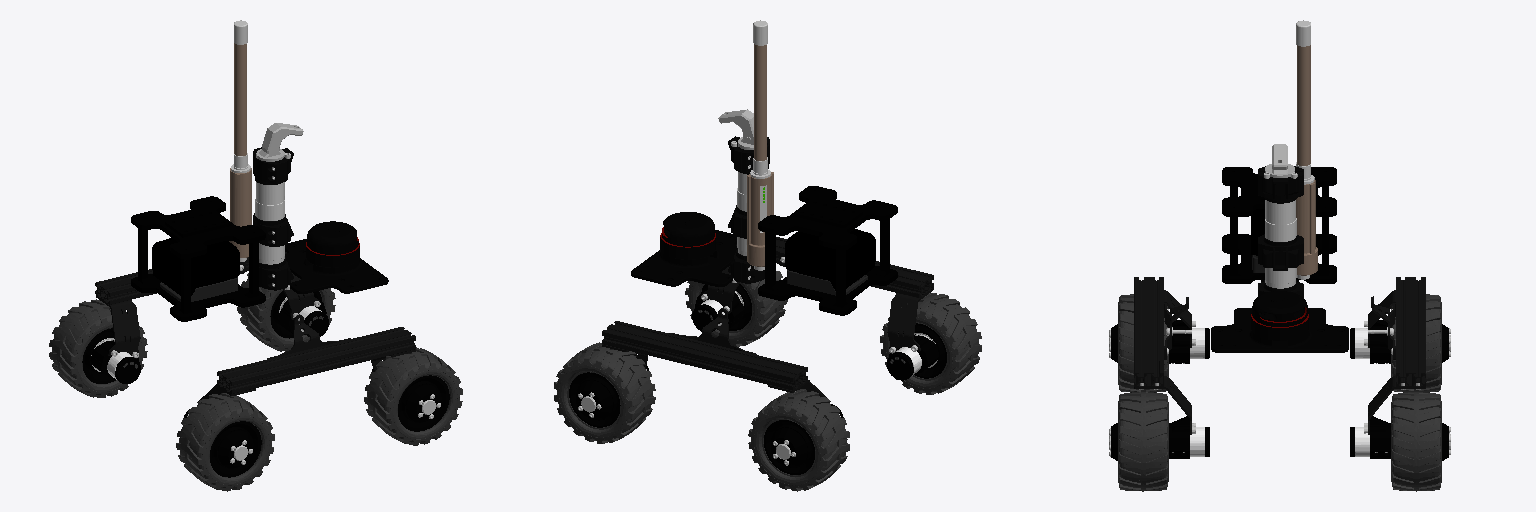
URDF robot description (leo):
<?xml version="1.0" ?>
<!-- =================================================================================== -->
<!-- |    This document was autogenerated by xacro from leo.urdf.xacro                 | -->
<!-- |    EDITING THIS FILE BY HAND IS NOT RECOMMENDED                                 | -->
<!-- =================================================================================== -->
<robot name="leo">
  <!-- LEO GAZEBO -->
  <link name="base_footprint"/>
  <link name="base_link">
    <inertial>
      <mass value="1.584994"/>
      <origin xyz="-0.019662 0.011643 -0.031802"/>
      <inertia ixx="0.01042" ixy="0.001177" ixz="-0.0008871" iyy="0.01045" iyz="0.0002226" izz="0.01817"/>
    </inertial>
    <visual>
      <geometry>
        <mesh filename="package://leorover_description/models/Chassis.dae"/>
      </geometry>
    </visual>
    <collision>
      <geometry>
        <mesh filename="package://leorover_description/models/Chassis_outline.stl"/>
      </geometry>
    </collision>
  </link>
  <link name="rocker_L_link">
    <inertial>
      <mass value="1.387336"/>
      <origin xyz="0 0.01346 -0.06506"/>
      <inertia ixx="0.002956" ixy="-0.000001489324" ixz="-0.000008103407" iyy="0.02924" iyz="0.00007112" izz="0.02832"/>
    </inertial>
    <visual>
      <geometry>
        <mesh filename="package://leorover_description/models/Rocker.dae"/>
      </geometry>
    </visual>
    <collision>
      <geometry>
        <mesh filename="package://leorover_description/models/Rocker_outline.stl"/>
      </geometry>
    </collision>
  </link>
  <link name="rocker_R_link">
    <inertial>
      <mass value="1.387336"/>
      <origin xyz="0 0.01346 -0.06506"/>
      <inertia ixx="0.002956" ixy="-0.000001489324" ixz="-0.000008103407" iyy="0.02924" iyz="0.00007112" izz="0.02832"/>
    </inertial>
    <visual>
      <geometry>
        <mesh filename="package://leorover_description/models/Rocker.dae"/>
      </geometry>
    </visual>
    <collision>
      <geometry>
        <mesh filename="package://leorover_description/models/Rocker_outline.stl"/>
      </geometry>
    </collision>
  </link>
  <link name="wheel_FL_link">
    <inertial>
      <mass value="0.283642"/>
      <origin xyz="0 0.030026 0"/>
      <inertia ixx="0.000391" ixy="0.00000123962" ixz="5.52582e-7" iyy="0.0004716" iyz="-0.000002082042" izz="0.000391"/>
    </inertial>
    <visual>
      <geometry>
        <mesh filename="package://leorover_description/models/WheelA.dae"/>
      </geometry>
    </visual>
    <collision>
      <origin rpy="1.5707963267948966 0 0" xyz="0 0.04485 0"/>
      <geometry>
        <cylinder length="0.07" radius="0.057"/>
      </geometry>
    </collision>
    <collision>
      <origin rpy="1.5707963267948966 0 0" xyz="0 0.04485 0"/>
      <geometry>
        <cylinder length="0.04" radius="0.0625"/>
      </geometry>
    </collision>
    <collision>
      <geometry>
        <mesh filename="package://leorover_description/models/Wheel_outline.stl"/>
      </geometry>
    </collision>
  </link>
  <link name="wheel_RL_link">
    <inertial>
      <mass value="0.283642"/>
      <origin xyz="0 0.030026 0"/>
      <inertia ixx="0.000391" ixy="0.00000123962" ixz="5.52582e-7" iyy="0.0004716" iyz="-0.000002082042" izz="0.000391"/>
    </inertial>
    <visual>
      <geometry>
        <mesh filename="package://leorover_description/models/WheelA.dae"/>
      </geometry>
    </visual>
    <collision>
      <origin rpy="1.5707963267948966 0 0" xyz="0 0.04485 0"/>
      <geometry>
        <cylinder length="0.07" radius="0.057"/>
      </geometry>
    </collision>
    <collision>
      <origin rpy="1.5707963267948966 0 0" xyz="0 0.04485 0"/>
      <geometry>
        <cylinder length="0.04" radius="0.0625"/>
      </geometry>
    </collision>
    <collision>
      <geometry>
        <mesh filename="package://leorover_description/models/Wheel_outline.stl"/>
      </geometry>
    </collision>
  </link>
  <link name="wheel_FR_link">
    <inertial>
      <mass value="0.283642"/>
      <origin xyz="0 0.030026 0"/>
      <inertia ixx="0.000391" ixy="0.00000123962" ixz="5.52582e-7" iyy="0.0004716" iyz="-0.000002082042" izz="0.000391"/>
    </inertial>
    <visual>
      <geometry>
        <mesh filename="package://leorover_description/models/WheelB.dae"/>
      </geometry>
    </visual>
    <collision>
      <origin rpy="1.5707963267948966 0 0" xyz="0 0.04485 0"/>
      <geometry>
        <cylinder length="0.07" radius="0.057"/>
      </geometry>
    </collision>
    <collision>
      <origin rpy="1.5707963267948966 0 0" xyz="0 0.04485 0"/>
      <geometry>
        <cylinder length="0.04" radius="0.0625"/>
      </geometry>
    </collision>
    <collision>
      <geometry>
        <mesh filename="package://leorover_description/models/Wheel_outline.stl"/>
      </geometry>
    </collision>
  </link>
  <link name="wheel_RR_link">
    <inertial>
      <mass value="0.283642"/>
      <origin xyz="0 0.030026 0"/>
      <inertia ixx="0.000391" ixy="0.00000123962" ixz="5.52582e-7" iyy="0.0004716" iyz="-0.000002082042" izz="0.000391"/>
    </inertial>
    <visual>
      <geometry>
        <mesh filename="package://leorover_description/models/WheelB.dae"/>
      </geometry>
    </visual>
    <collision>
      <origin rpy="1.5707963267948966 0 0" xyz="0 0.04485 0"/>
      <geometry>
        <cylinder length="0.07" radius="0.057"/>
      </geometry>
    </collision>
    <collision>
      <origin rpy="1.5707963267948966 0 0" xyz="0 0.04485 0"/>
      <geometry>
        <cylinder length="0.04" radius="0.0625"/>
      </geometry>
    </collision>
    <collision>
      <geometry>
        <mesh filename="package://leorover_description/models/Wheel_outline.stl"/>
      </geometry>
    </collision>
  </link>
  <link name="antenna_link">
    <inertial>
      <mass value="0.001237"/>
      <origin xyz="0 0 0.028828"/>
      <inertia ixx="2.5529e-7" ixy="0.0" ixz="0.0" iyy="2.5529e-7" iyz="0.0" izz="1.354e-8"/>
    </inertial>
    <visual>
      <geometry>
        <mesh filename="package://leorover_description/models/Antenna.dae"/>
      </geometry>
    </visual>
    <collision>
      <origin xyz="0 0 0.028"/>
      <geometry>
        <cylinder length="0.056" radius="0.0055"/>
      </geometry>
    </collision>
  </link>
  <link name="camera_frame"/>
  <link name="camera_optical_frame"/>
  <link name="imu_frame"/>
  <!-- JOINTS -->
  <joint name="base_joint" type="fixed">
    <origin rpy="0 0 0" xyz="0 0 0.19783"/>
    <parent link="base_footprint"/>
    <child link="base_link"/>
  </joint>
  <joint name="rocker_L_joint" type="fixed">
    <origin rpy="0 0 3.141592653589793" xyz="0.00263 0.14167 -0.04731"/>
    <parent link="base_link"/>
    <child link="rocker_L_link"/>
    <axis xyz="0 1 0"/>
    <limit effort="100.0" lower="-0.24" upper="0.24" velocity="100.0"/>
    <dynamics damping="0.1" friction="1.0"/>
  </joint>
  <joint name="rocker_R_joint" type="fixed">
    <origin rpy="0 0 0" xyz="0.00263 -0.14167 -0.04731"/>
    <parent link="base_link"/>
    <child link="rocker_R_link"/>
    <axis xyz="0 1 0"/>
    <limit effort="100.0" lower="-0.24" upper="0.24" velocity="100.0"/>
    <dynamics damping="0.1" friction="1.0"/>
    <mimic joint="rocker_L_joint"/>
  </joint>
  <joint name="wheel_FL_joint" type="continuous">
    <origin rpy="0 0 0" xyz="-0.15256 -0.08214 -0.08802"/>
    <parent link="rocker_L_link"/>
    <child link="wheel_FL_link"/>
    <axis xyz="0 -1 0"/>
    <limit effort="2.0" velocity="6.0"/>
    <dynamics damping="0.1" friction="0.3125"/>
  </joint>
  <joint name="wheel_RL_joint" type="continuous">
    <origin rpy="0 0 0" xyz="0.15256 -0.08214 -0.08802"/>
    <parent link="rocker_L_link"/>
    <child link="wheel_RL_link"/>
    <axis xyz="0 -1 0"/>
    <limit effort="2.0" velocity="6.0"/>
    <dynamics damping="0.1" friction="0.3125"/>
  </joint>
  <joint name="wheel_FR_joint" type="continuous">
    <origin rpy="0 0 0" xyz="0.15256 -0.08214 -0.08802"/>
    <parent link="rocker_R_link"/>
    <child link="wheel_FR_link"/>
    <axis xyz="0 1 0"/>
    <limit effort="2.0" velocity="6.0"/>
    <dynamics damping="0.1" friction="0.3125"/>
  </joint>
  <joint name="wheel_RR_joint" type="continuous">
    <origin rpy="0 0 0" xyz="-0.15256 -0.08214 -0.08802"/>
    <parent link="rocker_R_link"/>
    <child link="wheel_RR_link"/>
    <axis xyz="0 1 0"/>
    <limit effort="2.0" velocity="6.0"/>
    <dynamics damping="0.1" friction="0.3125"/>
  </joint>
  <joint name="antenna_joint" type="fixed">
    <origin rpy="0 0 0" xyz="-0.0052 0.056 -0.0065"/>
    <parent link="base_link"/>
    <child link="antenna_link"/>
  </joint>
  <joint name="camera_joint" type="fixed">
    <origin rpy="0 0.2094 0" xyz="0.0971 0 -0.0427"/>
    <parent link="base_link"/>
    <child link="camera_frame"/>
  </joint>
  <joint name="camera_optical_joint" type="fixed">
    <origin rpy="-1.5707963267948966 0.0 -1.5707963267948966" xyz="0 0 0"/>
    <parent link="camera_frame"/>
    <child link="camera_optical_frame"/>
  </joint>
  <joint name="imu_joint" type="fixed">
    <origin rpy="0 0 0" xyz="0.0628 -0.0314 -0.0393"/>
    <parent link="base_link"/>
    <child link="imu_frame"/>
  </joint>
  <!-- 2-segment camera mast with mount for camera -->
  <link name="mast_link">
    <visual>
      <origin rpy="0 0 -1.5707963267948966" xyz="0.006 0.0 0.0"/>
      <geometry>
        <mesh filename="package://leorover_description/models/model_extensions/long_camera_mast.dae"/>
      </geometry>
    </visual>
    <inertial>
      <origin xyz="0.0 0.0 0.1"/>
      <mass value="0.25"/>
      <inertia ixx="0.002956" ixy="-0.000001489324" ixz="-0.000008103407" iyy="0.02924" iyz="0.00007112" izz="0.02832"/>
    </inertial>
    <collision>
      <origin xyz="0.0 0.0 0.1"/>
      <geometry>
        <cylinder length="0.2" radius="0.025"/>
      </geometry>
    </collision>
  </link>
  <joint name="mast_joint" type="fixed">
    <parent link="base_link"/>
    <child link="mast_link"/>
    <origin rpy="0 0 0" xyz="0.024999999999999994 0.0 -0.001"/>
  </joint>
  <link name="camera_mount_link">
    <visual>
      <origin rpy="0 0 1.5707963267948966" xyz="-0.001 0.0 0.0"/>
      <geometry>
        <mesh filename="package://leorover_description/models/model_extensions/camera_mount_fixed_angle_20_degrees_v1.dae"/>
      </geometry>
    </visual>
    <inertial>
      <mass value="0.05"/>
      <inertia ixx="0.01042" ixy="0.001177" ixz="-0.0008871" iyy="0.01045" iyz="0.0002226" izz="0.01817"/>
    </inertial>
  </link>
  <joint name="camera_mount_joint" type="fixed">
    <parent link="mast_link"/>
    <child link="camera_mount_link"/>
    <origin rpy="0 0 0" xyz="0.0025 0.0 0.17"/>
  </joint>
  <link name="mikrotik_antenna_link">
    <inertial>
      <mass value="0.5"/>
      <inertia ixx="0.002956" ixy="-0.000001489324" ixz="-0.000008103407" iyy="0.02924" iyz="0.00007112" izz="0.02832"/>
    </inertial>
    <visual>
      <origin rpy="0 0 1.5707963267948966" xyz="0 0 0"/>
      <geometry>
        <mesh filename="package://leorover_description/models/model_extensions/mikrotik_antenna.dae"/>
      </geometry>
    </visual>
    <collision>
      <origin xyz="0 0 0.08"/>
      <geometry>
        <cylinder length="0.16" radius="0.025"/>
      </geometry>
    </collision>
    <collision>
      <origin xyz="0.0 0.0 0.23"/>
      <geometry>
        <cylinder length="0.3" radius="0.01"/>
      </geometry>
    </collision>
  </link>
  <joint name="mikrotik_antenna_joint" type="fixed">
    <origin rpy="0 0 -0.7853981633974483" xyz="-0.03 0.03 0.03"/>
    <parent link="mast_link"/>
    <child link="mikrotik_antenna_link"/>
  </joint>
  <link name="realsense_link"/>
  <material name="aluminum">
    <color rgba="0.5 0.5 0.5 1"/>
  </material>
  <material name="plastic">
    <color rgba="0.1 0.1 0.1 1"/>
  </material>
  <!-- camera body, with origin at bottom screw mount -->
  <joint name="realsense_camera_joint" type="fixed">
    <origin rpy="0 0 0" xyz="-0.01 0.0 -0.002"/>
    <parent link="realsense_link"/>
    <child link="realsense_camera_bottom_screw_frame"/>
  </joint>
  <link name="realsense_camera_bottom_screw_frame"/>
  <joint name="realsense_camera_link_joint" type="fixed">
    <origin rpy="0 0 0" xyz="0.025195 0.0 0.0145"/>
    <parent link="realsense_camera_bottom_screw_frame"/>
    <child link="realsense_camera_link"/>
  </joint>
  <link name="realsense_camera_link">
    <visual>
      <!-- the mesh origin is at front plate in between the two infrared camera axes -->
      <!-- <origin xyz="${d455_zero_depth_to_glass + d455_glass_to_front} ${-d455_cam_depth_py} 0" rpy="${M_PI/2} 0 ${M_PI/2}"/> -->
      <origin rpy="1.5707963267948966 0 1.5707963267948966" xyz="0 -0.0 0"/>
      <geometry>
        <!-- <box size="${d455_cam_width} ${d455_cam_height} ${d455_cam_depth}"/> -->
        <mesh filename="package://leorover_description/models/model_extensions/d455.stl" scale="0.001 0.001 0.001"/>
        <material name="camera_gray">
          <color rgba="0.2 0.2 0.2 1.0"/>
        </material>
      </geometry>
    </visual>
    <collision>
      <origin rpy="0 0 0" xyz="0 -0.0 0"/>
      <geometry>
        <box size="0.025195 0.124 0.029"/>
      </geometry>
    </collision>
    <inertial>
      <!-- The following are not reliable values, and should not be used for modeling -->
      <mass value="0.072"/>
      <origin xyz="0 0 0"/>
      <inertia ixx="0.003881243" ixy="0.0" ixz="0.0" iyy="0.000498940" iyz="0.0" izz="0.003879257"/>
    </inertial>
  </link>
  <joint name="realsense_joint" type="fixed">
    <origin rpy="0 0.349 0" xyz="0.044 0 0.0635"/>
    <parent link="camera_mount_link"/>
    <child link="realsense_link"/>
  </joint>
  <!-- 
    <link name="/realsense_camera_leo02"/>
    <joint name="${link_prefix}realsense_optical_joint" type="fixed">
      <origin xyz="0.044 0 0.0635" rpy="0 0.349 0"/>
      <parent link="${link_prefix}camera_mount_link"/>
      <child link="/realsense_camera_leo02"/>
    </joint>
-->
  <!-- makita battery 3D printed mount -->
  <link name="makita_battery_mount">
    <visual>
      <origin rpy="0 0 0" xyz="0.0 0.0 0.0"/>
      <!-- ${-pi/2} -->
      <geometry>
        <mesh filename="package://leorover_description/models/model_extensions/makita_battery_mount.dae"/>
      </geometry>
    </visual>
    <inertial>
      <origin xyz="0.0 0.0 0.0"/>
      <mass value="0.2"/>
      <inertia ixx="0.000749" ixy="0" ixz="0" iyy="0.000749" iyz="0" izz="0.000749"/>
    </inertial>
    <collision>
      <origin xyz="0.0 0.0 0.06"/>
      <geometry>
        <box size="0.15 0.15 0.12"/>
      </geometry>
    </collision>
  </link>
  <joint name="makita_battery_mount_joint" type="fixed">
    <origin rpy="0 0 0" xyz="-0.09 0.0 0.0"/>
    <parent link="base_link"/>
    <child link="makita_battery_mount"/>
  </joint>
  <!-- makita battery adapter -->
  <link name="makita_battery_adapter">
    <visual>
      <origin rpy="0 0 0" xyz="0.0 0.0 0.0"/>
      <geometry>
        <mesh filename="package://leorover_description/models/model_extensions/makita_battery_adapter.dae"/>
      </geometry>
    </visual>
    <inertial>
      <origin xyz="0.0 0.0 0.0"/>
      <mass value="0.2"/>
      <inertia ixx="0.000749" ixy="0" ixz="0" iyy="0.000749" iyz="0" izz="0.000749"/>
    </inertial>
    <collision>
      <origin xyz="0.0 0.0 0.012"/>
      <geometry>
        <box size="0.09 0.07 0.025"/>
      </geometry>
    </collision>
  </link>
  <joint name="makita_battery_adapter_joint" type="fixed">
    <origin rpy="0 0 0" xyz="0.0 0.0 0.015"/>
    <parent link="makita_battery_mount"/>
    <child link="makita_battery_adapter"/>
  </joint>
  <!-- makita battery -->
  <link name="makita_battery">
    <visual>
      <origin rpy="0 3.141592653589793 0" xyz="0.0 0.0 0.035"/>
      <geometry>
        <mesh filename="package://leorover_description/models/model_extensions/makita_battery.dae"/>
      </geometry>
    </visual>
    <inertial>
      <origin xyz="0.0 0.0 0.0"/>
      <mass value="0.5"/>
      <inertia ixx="0.00037083" ixy="0" ixz="0" iyy="0.00052083" iyz="0" izz="0.00052083"/>
    </inertial>
    <collision>
      <origin xyz="0.0 0.0 0.01"/>
      <geometry>
        <box size="0.1 0.08 0.04"/>
      </geometry>
    </collision>
  </link>
  <joint name="makita_battery_joint" type="fixed">
    <origin rpy="0 0 0" xyz="-0.005 0.0 0.035"/>
    <parent link="makita_battery_adapter"/>
    <child link="makita_battery"/>
  </joint>
  <!-- entire xavier mount -->
  <link name="xavier_mount">
    <visual>
      <origin rpy="0 0 0" xyz="0.0 0.0 0.0"/>
      <!-- ${-pi/2} -->
      <geometry>
        <mesh filename="package://leorover_description/models/model_extensions/xavier_mount.dae"/>
      </geometry>
    </visual>
    <inertial>
      <origin xyz="0.01 0.0 0.04"/>
      <mass value="0.4"/>
      <inertia ixx="0.00069" ixy="0" ixz="0" iyy="0.00055" iyz="0" izz="0.00055"/>
    </inertial>
    <collision>
      <origin xyz="0.01 0.0 0.04"/>
      <geometry>
        <box size="0.1 0.12 0.08"/>
      </geometry>
    </collision>
  </link>
  <joint name="xavier_mount_joint" type="fixed">
    <origin rpy="0 0 0" xyz="-0.014 0.0 0.12"/>
    <parent link="makita_battery_mount"/>
    <child link="xavier_mount"/>
  </joint>
  <!-- Mount for RP LiDAR -->
  <link name="rp_lidar_mount">
    <visual>
      <origin rpy="0 0 0" xyz="0.0 0.0 0.0"/>
      <!-- ${-pi/2} -->
      <geometry>
        <mesh filename="package://leorover_description/models/model_extensions/rp_lidar_mount.dae"/>
      </geometry>
    </visual>
    <inertial>
      <origin xyz="0.03 0.0 0.008"/>
      <mass value="0.1"/>
      <inertia ixx="0.00027" ixy="0.0" ixz="0.0" iyy="0.00012" iyz="0.0" izz="0.00012"/>
    </inertial>
    <collision>
      <origin xyz="0.03 0.0 0.008"/>
      <geometry>
        <box size="0.12 0.18 0.016"/>
        <!-- <cylinder length="0.2" radius="0.025"/> -->
      </geometry>
    </collision>
  </link>
  <joint name="rp_lidar_mount_joint" type="fixed">
    <origin rpy="0 0 0" xyz="0.0775 0.0 0.0"/>
    <parent link="base_link"/>
    <child link="rp_lidar_mount"/>
  </joint>
  <!-- RP LiDAR -->
  <link name="rp_lidar">
    <visual>
      <origin rpy="0 0 -1.5707963267948966" xyz="0.0 0.0 0.0"/>
      <!-- ${-pi/2} -->
      <geometry>
        <mesh filename="package://leorover_description/models/model_extensions/rp_lidar.dae"/>
      </geometry>
    </visual>
    <inertial>
      <origin xyz="0.03 0.0 0.008"/>
      <mass value="0.1"/>
      <inertia ixx="0.00027" ixy="0.0" ixz="0.0" iyy="0.00012" iyz="0.0" izz="0.00012"/>
    </inertial>
    <collision>
      <origin xyz="0.0 0.0 0.02"/>
      <geometry>
        <cylinder length="0.04" radius="0.04"/>
      </geometry>
    </collision>
  </link>
  <joint name="rp_lidar_joint" type="fixed">
    <origin rpy="0 0 0" xyz="0.05 0.0 0.015"/>
    <parent link="rp_lidar_mount"/>
    <child link="rp_lidar"/>
  </joint>
  <link name="rp_lidar_optical_frame"/>
  <joint name="rp_lidar_optical_frame_joint" type="fixed">
    <origin rpy="0 0 3.141592653589793" xyz="0.0 0.0 0.03"/>
    <parent link="rp_lidar"/>
    <child link="rp_lidar_optical_frame"/>
  </joint>
</robot>

--- Facts derived from the render (not from the file) ---
Views: 3 orthographic renders of the robot side by side, from view 1: azimuth 30°, elevation 25°; view 2: azimuth 150°, elevation 25°; view 3: azimuth 270°, elevation 25°.
Robot: leo — 25 links, 24 joints (4 continuous, 20 fixed); root link base_footprint; default pose: every joint at zero.
Links seen in each view (by area): view 1: makita_battery_mount, wheel_RR_link, wheel_FR_link, rocker_R_link, rocker_L_link, wheel_RL_link, mast_link, mikrotik_antenna_link, makita_battery, rp_lidar_mount, wheel_FL_link, rp_lidar (+2 smaller); view 2: makita_battery_mount, wheel_RL_link, wheel_FL_link, rocker_L_link, rocker_R_link, wheel_RR_link, mikrotik_antenna_link, makita_battery, rp_lidar_mount, wheel_FR_link, mast_link, rp_lidar (+2 smaller); view 3: rocker_R_link, rocker_L_link, makita_battery_mount, wheel_FR_link, wheel_FL_link, mast_link, mikrotik_antenna_link, rp_lidar_mount, rp_lidar, wheel_RL_link, wheel_RR_link, camera_mount_link.
Link boxes in pixels (left/top/right/bottom): makita_battery_mount: left=131, top=196, right=265, bottom=321; wheel_RR_link: left=176, top=393, right=274, bottom=491; wheel_FR_link: left=364, top=347, right=462, bottom=445; rocker_R_link: left=184, top=314, right=415, bottom=417; rocker_L_link: left=90, top=252, right=328, bottom=383; wheel_RL_link: left=49, top=299, right=147, bottom=397; mast_link: left=253, top=147, right=293, bottom=290; mikrotik_antenna_link: left=229, top=20, right=251, bottom=261; makita_battery: left=152, top=238, right=239, bottom=295; rp_lidar_mount: left=285, top=239, right=388, bottom=293; wheel_FL_link: left=237, top=273, right=335, bottom=351; rp_lidar: left=306, top=221, right=359, bottom=267; makita_battery_mount: left=758, top=186, right=897, bottom=315; wheel_RL_link: left=748, top=389, right=849, bottom=491; wheel_FL_link: left=554, top=342, right=655, bottom=443; rocker_L_link: left=602, top=308, right=843, bottom=417; rocker_R_link: left=692, top=237, right=939, bottom=380; wheel_RR_link: left=880, top=293, right=981, bottom=394; mikrotik_antenna_link: left=747, top=20, right=773, bottom=270; makita_battery: left=785, top=229, right=875, bottom=290; rp_lidar_mount: left=631, top=230, right=736, bottom=286; wheel_FR_link: left=685, top=271, right=787, bottom=346; mast_link: left=728, top=136, right=769, bottom=283; rp_lidar: left=660, top=212, right=715, bottom=259; rocker_R_link: left=1134, top=277, right=1209, bottom=458; rocker_L_link: left=1350, top=277, right=1425, bottom=458; makita_battery_mount: left=1222, top=167, right=1336, bottom=283; wheel_FR_link: left=1109, top=392, right=1168, bottom=491; wheel_FL_link: left=1391, top=392, right=1450, bottom=491; mast_link: left=1258, top=166, right=1303, bottom=297; mikrotik_antenna_link: left=1296, top=20, right=1317, bottom=279; rp_lidar_mount: left=1211, top=308, right=1348, bottom=352; rp_lidar: left=1251, top=291, right=1308, bottom=340; wheel_RL_link: left=1391, top=294, right=1450, bottom=392; wheel_RR_link: left=1109, top=294, right=1168, bottom=392; camera_mount_link: left=1265, top=144, right=1294, bottom=177.
Bounding box of the posed robot: 0.4351 × 0.4476 × 0.5959 m (x, y, z).
14 mesh visuals loaded from 15 distinct referenced files (11 Collada DAE); not drawn: 4 (reference not matched to a file when rendering).
